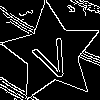V: (27, 28, 77, 84)
